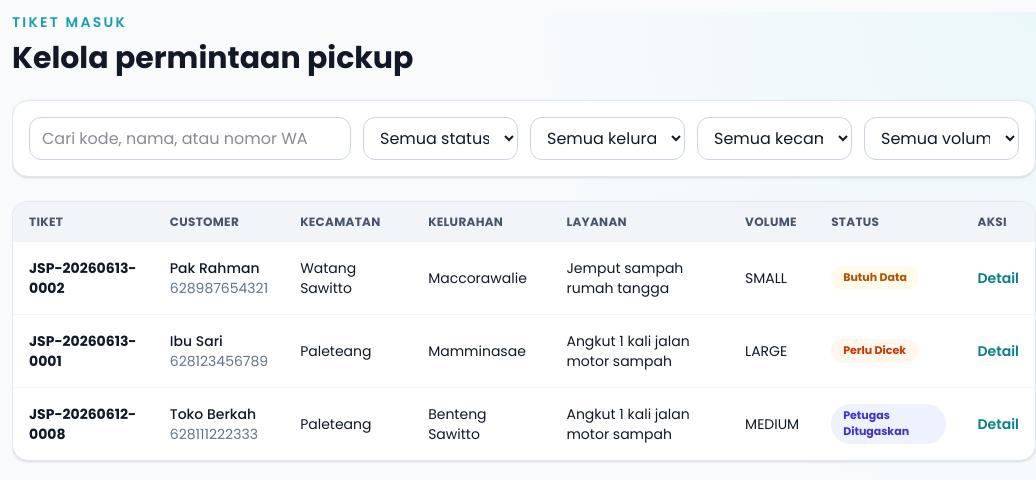
Test: TicketsPage › mencari tiket berdasarkan nama customer
Expected: the text "Ibu Sari" is shown, [170,331,223,351]
In the field named "Cari tiket": coordinates (190, 138) [29,117,351,160], type "Toko Berkah"
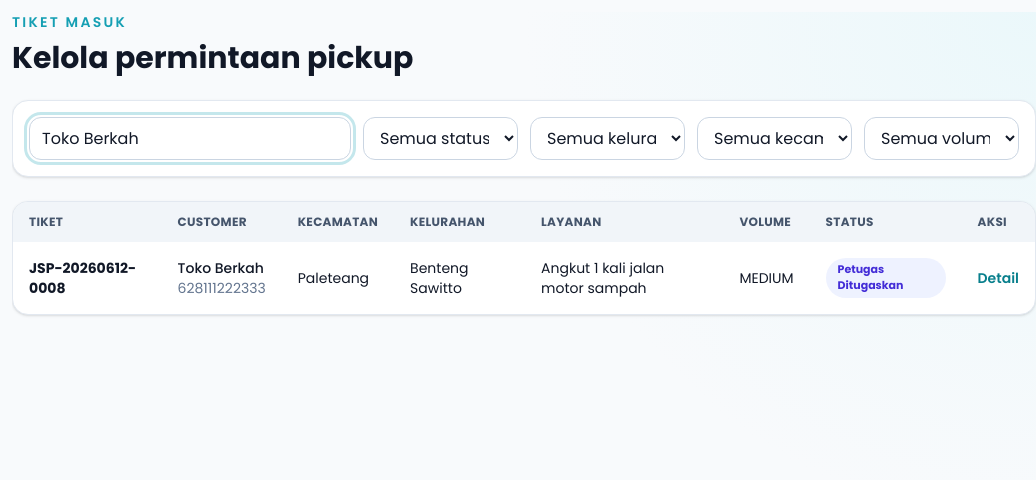
Expected: the text "Toko Berkah" is shown, [178,258,266,278]
Expected: the text "Ibu Sari" is gone
